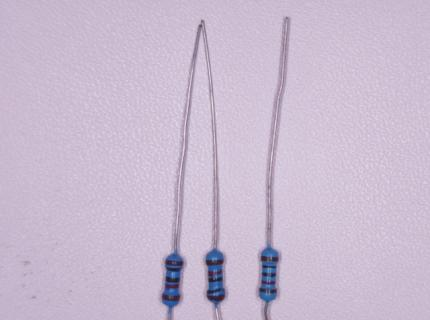Black band: (165, 276, 180, 283), (208, 276, 223, 282), (207, 289, 225, 293), (165, 268, 182, 272), (262, 273, 276, 277), (262, 265, 277, 268)
Brown band: (162, 293, 180, 301), (207, 293, 225, 301), (206, 259, 224, 265), (259, 287, 277, 293), (261, 255, 279, 261), (165, 260, 184, 265)
Red band: (208, 270, 223, 276), (165, 284, 179, 289), (262, 280, 275, 284)
